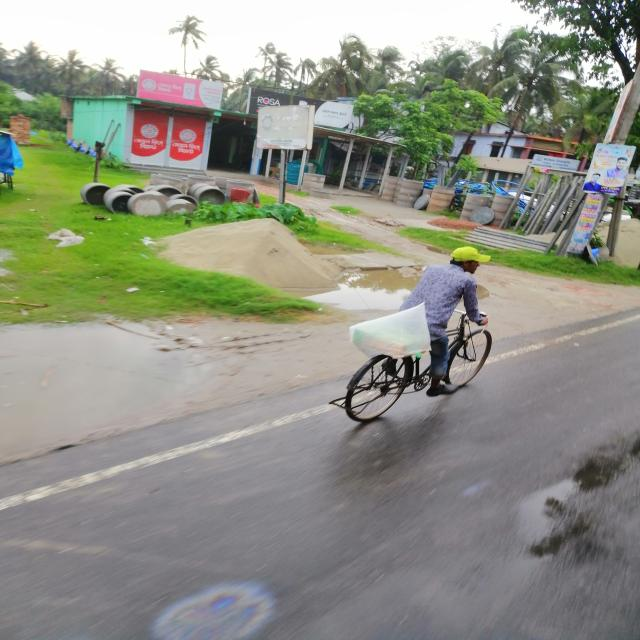Bicycle: (328, 311, 510, 430)
